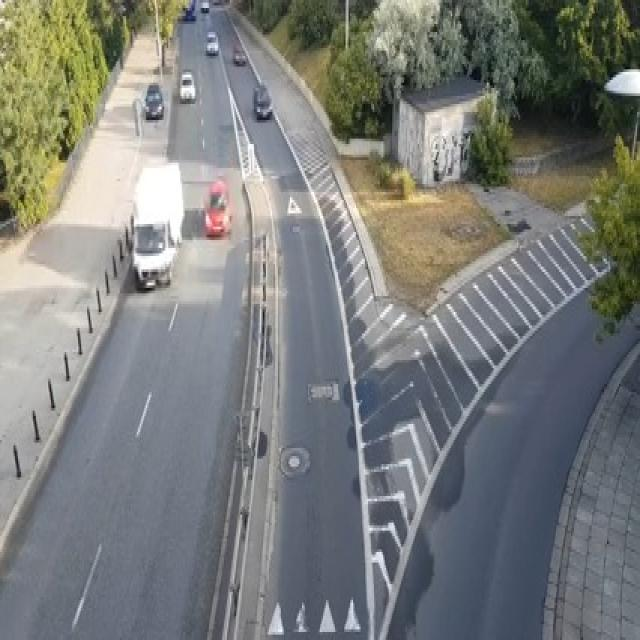car: (130, 216, 176, 288), (203, 178, 231, 234), (142, 83, 164, 117), (252, 83, 272, 117), (179, 72, 195, 101), (206, 30, 218, 54), (233, 43, 246, 64), (200, 0, 209, 13), (185, 8, 195, 19), (212, 0, 221, 3)
truck: (129, 160, 183, 288)
